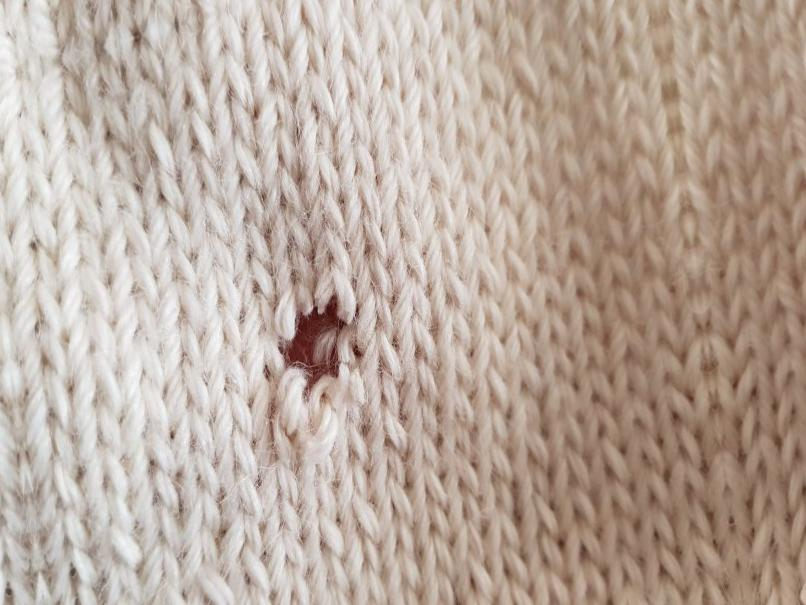hole: (264, 288, 370, 397)
